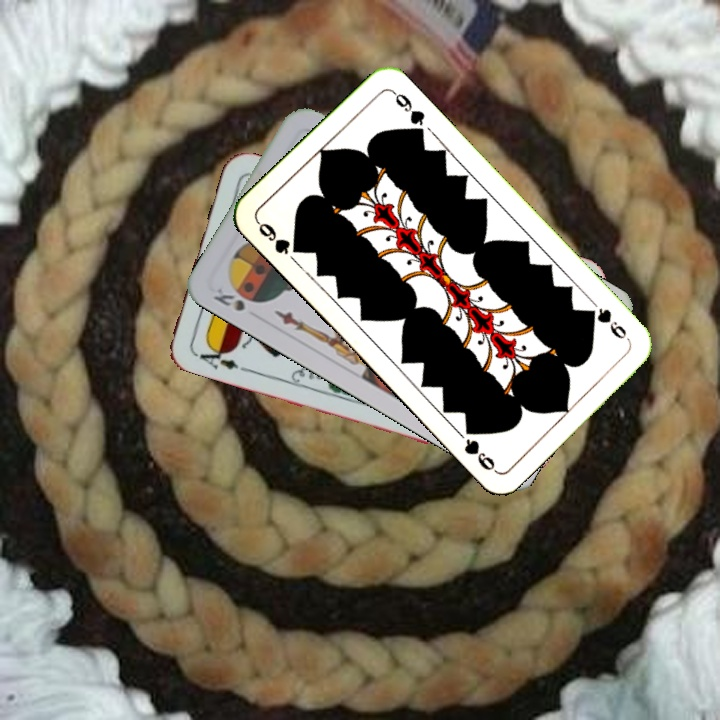EA: (190, 340, 248, 374)
G9: (252, 217, 305, 257), (583, 304, 633, 345)
SK: (209, 283, 262, 314)
